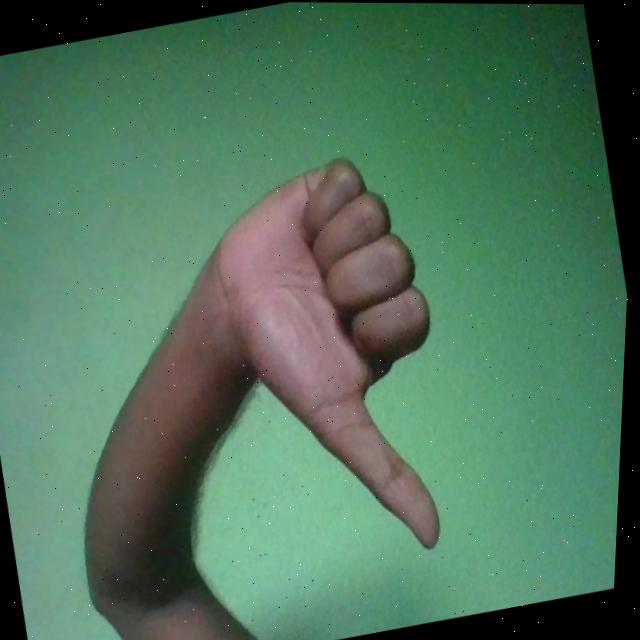Dislike: (189, 137, 486, 583)
